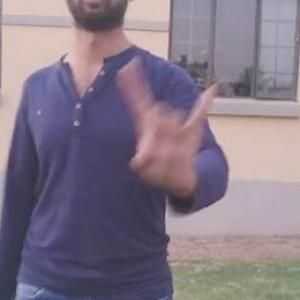takeoff-hand: (108, 43, 231, 192)
